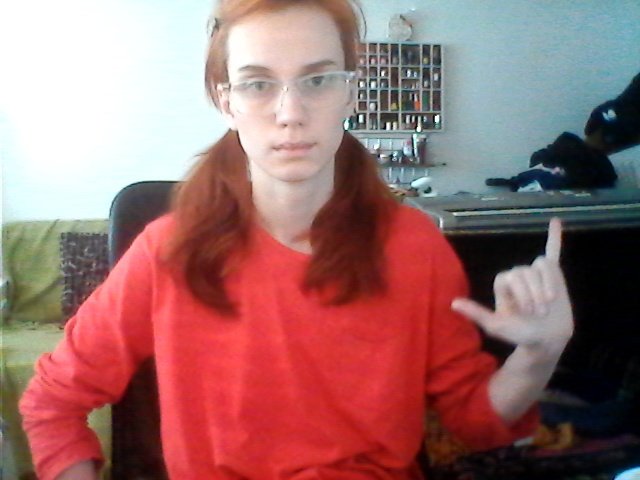kto: (446, 213, 581, 355)
